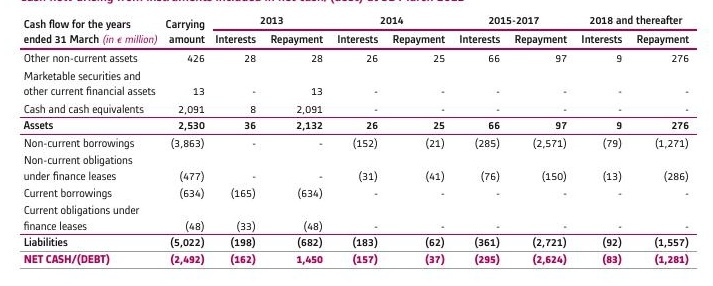table: (0, 0, 713, 286)
